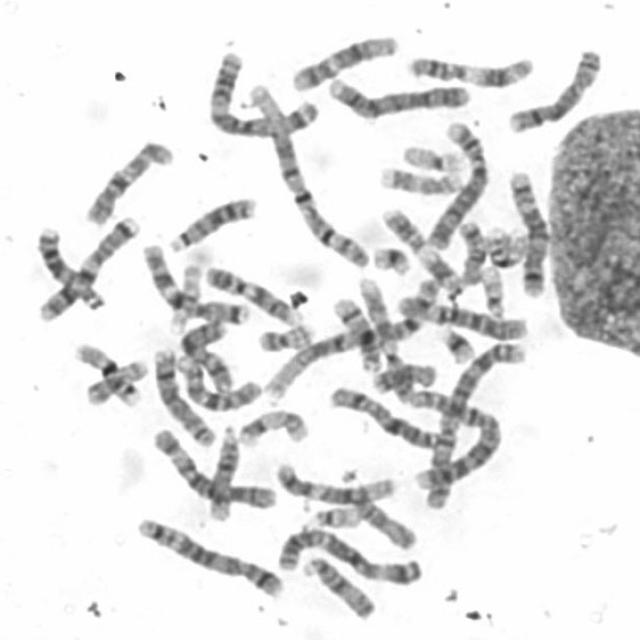A1: (242, 76, 374, 270), (260, 269, 445, 402)
A2: (420, 333, 531, 513), (403, 388, 502, 494)
A3: (203, 45, 322, 140), (271, 521, 426, 588)
B4: (420, 115, 492, 250), (323, 68, 475, 120)
B5: (131, 510, 287, 600), (503, 166, 552, 300)
C10: (78, 132, 176, 228), (169, 347, 264, 415)
C11: (376, 202, 466, 296), (402, 49, 538, 90)
C12: (286, 28, 402, 92), (270, 457, 398, 505)
C6: (146, 421, 280, 511), (394, 287, 533, 342)
C7: (33, 210, 142, 323), (137, 237, 250, 327)
C8: (502, 42, 605, 135), (149, 343, 219, 448)
C9: (200, 259, 304, 327), (359, 280, 409, 398)
D13: (32, 218, 109, 312), (164, 190, 258, 254)
D14: (326, 289, 385, 373), (203, 419, 240, 523)
D15: (336, 470, 419, 552), (298, 550, 379, 622)
E16: (67, 336, 145, 408), (480, 221, 530, 269)
E17: (232, 403, 311, 448), (374, 160, 466, 196)
E18: (368, 356, 439, 395), (453, 215, 489, 285)
F19: (165, 252, 207, 333), (397, 138, 467, 175)
F20: (81, 352, 151, 408), (253, 317, 318, 353)
G21: (436, 321, 480, 364), (367, 239, 413, 277)
G22: (475, 260, 509, 319), (304, 500, 363, 530)
X: (326, 381, 444, 451), (173, 314, 236, 394)
